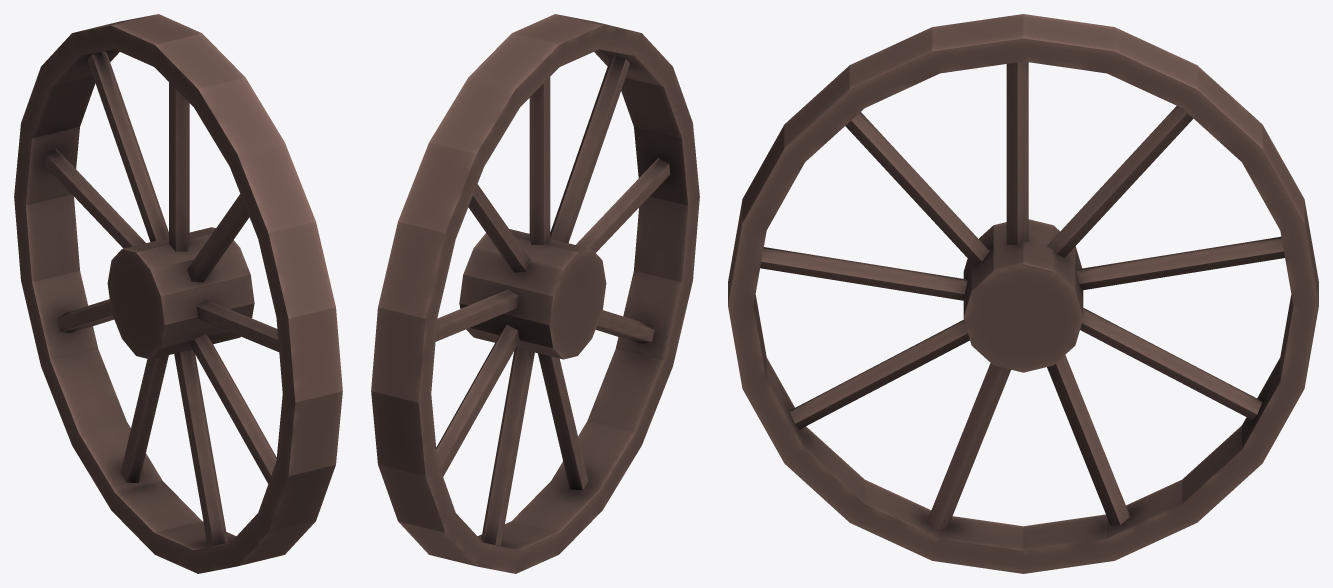
Rendered from Props_3.fbx.
The picture shows the model from 3 angles, left to right: view 1: azimuth 30°, elevation 25°; view 2: azimuth 150°, elevation 25°; view 3: azimuth 270°, elevation 25°; orthographic projection. The views are drawn at different scales.
Parts seen in each view (by area): view 1: Props_3; view 2: Props_3; view 3: Props_3.
Part boxes in pixels (bbox=[...]): Props_3: bbox=[14, 14, 342, 573]; Props_3: bbox=[371, 14, 699, 573]; Props_3: bbox=[728, 14, 1318, 573].
Size of the model in its own units: 5.57 by 30.19 by 30.19.
Materials: 1 (1 with a texture image).
